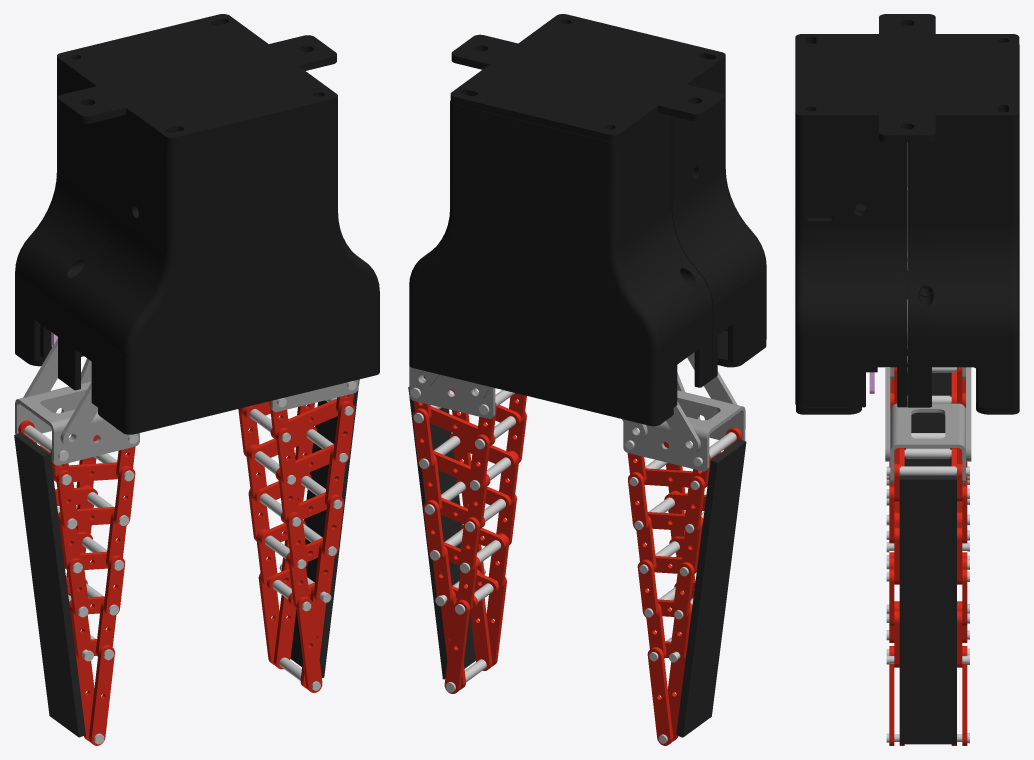
Rendered from Final_Gripper_Model.glb.
The picture shows the model from 3 angles, left to right: view 1: azimuth 30°, elevation 25°; view 2: azimuth 150°, elevation 25°; view 3: azimuth 270°, elevation 25°; orthographic projection. The views are drawn at different scales.
Visible parts, largest first — view 1: empty_156, empty_157, empty_155, empty_154, empty_32, empty_93, empty_158, empty_107, empty_45, empty_30, empty_68, empty_46 (+23 smaller); view 2: empty_155, empty_157, empty_156, empty_154, empty_32, empty_93, empty_158, empty_27, empty_106, empty_46, empty_69, empty_45 (+22 smaller); view 3: empty_156, empty_155, empty_157, empty_93, empty_27, empty_154, empty_158, empty_25, empty_26, empty_45, empty_46, empty_81 (+1 smaller).
Boxes of the visible parts, x1,y1,x2,y2 form: empty_156: [69, 104, 379, 427]; empty_157: [57, 14, 337, 144]; empty_155: [15, 64, 111, 385]; empty_154: [14, 432, 85, 737]; empty_32: [15, 381, 139, 465]; empty_93: [290, 379, 359, 677]; empty_158: [15, 346, 379, 434]; empty_107: [89, 645, 114, 745]; empty_45: [296, 596, 322, 692]; empty_30: [60, 382, 97, 447]; empty_68: [273, 565, 296, 669]; empty_46: [258, 573, 279, 664]; empty_155: [409, 100, 712, 418]; empty_157: [450, 14, 725, 142]; empty_156: [671, 63, 766, 378]; empty_154: [676, 439, 746, 737]; empty_32: [623, 390, 745, 471]; empty_93: [408, 376, 475, 679]; empty_158: [409, 330, 766, 426]; empty_27: [409, 366, 495, 418]; empty_106: [647, 647, 673, 745]; empty_46: [444, 599, 470, 693]; empty_69: [470, 569, 492, 670]; empty_45: [486, 577, 506, 666]; empty_156: [795, 43, 933, 407]; empty_155: [908, 44, 1019, 407]; empty_157: [795, 14, 1019, 142]; empty_93: [899, 475, 956, 744]; empty_27: [890, 403, 965, 482]; empty_154: [904, 349, 951, 466]; empty_158: [796, 353, 1019, 414]; empty_25: [966, 367, 971, 461]; empty_26: [885, 367, 890, 461]; empty_45: [889, 646, 894, 745]; empty_46: [962, 646, 967, 745]; empty_81: [901, 466, 955, 475].
Bounding box in the file's own units: 0.1359 × 0.2617 × 0.0859.
